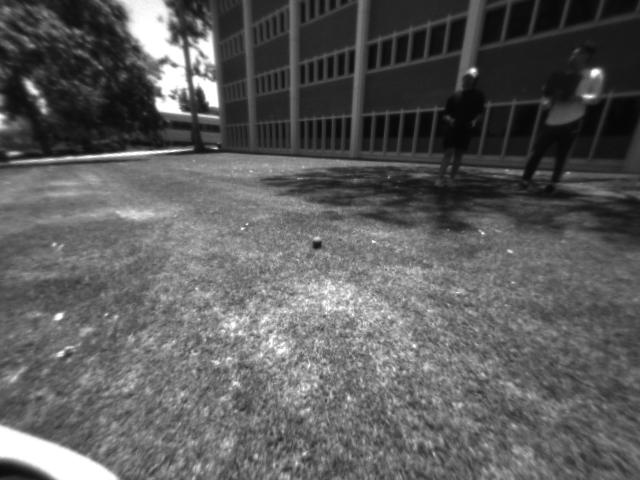dogtoy: (305, 230, 331, 254)
